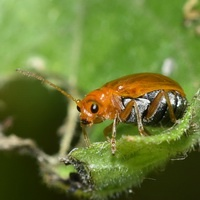insect: (16, 69, 186, 153)
